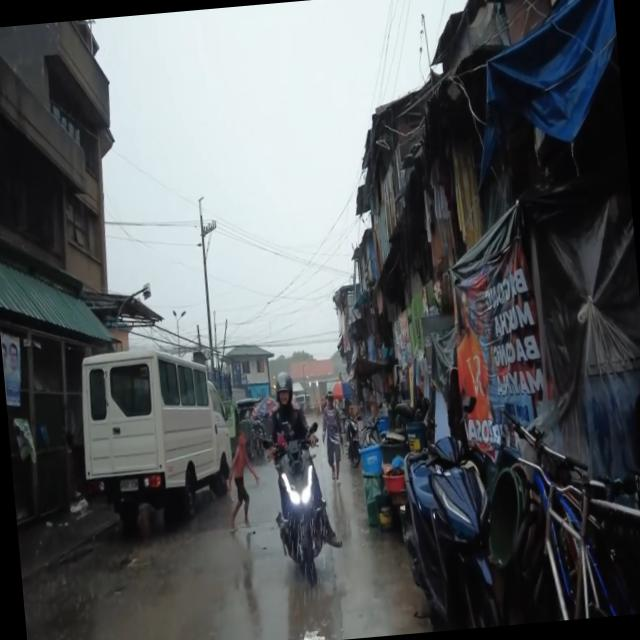half: (274, 371, 295, 408)
